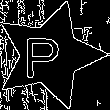P_N: (30, 30, 69, 81)
